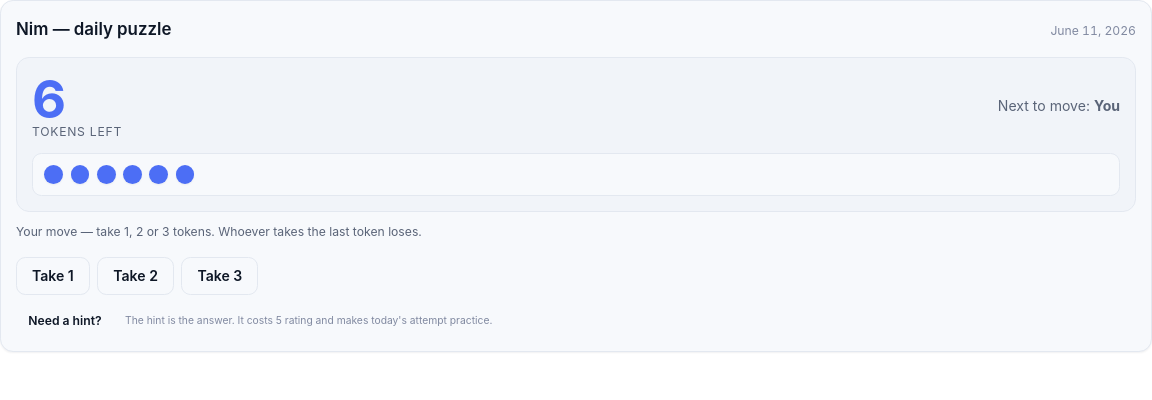
Test: DailyPuzzleCard: hints (server round-trip) › keeps the attempt rated when the hint request fails
Click the button with test id "puzzle-hint": (65, 321) [16,306,114,336]
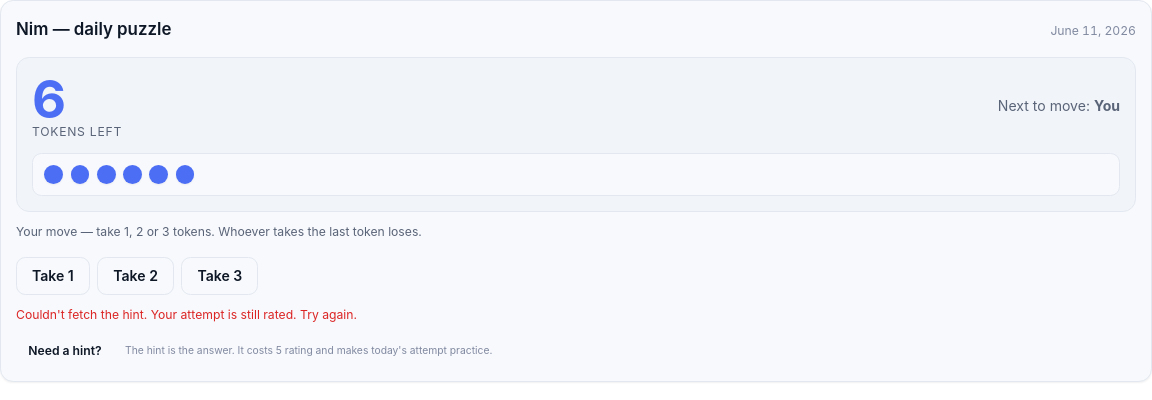
Expected: the message shows "hint", [16,307,357,322]
